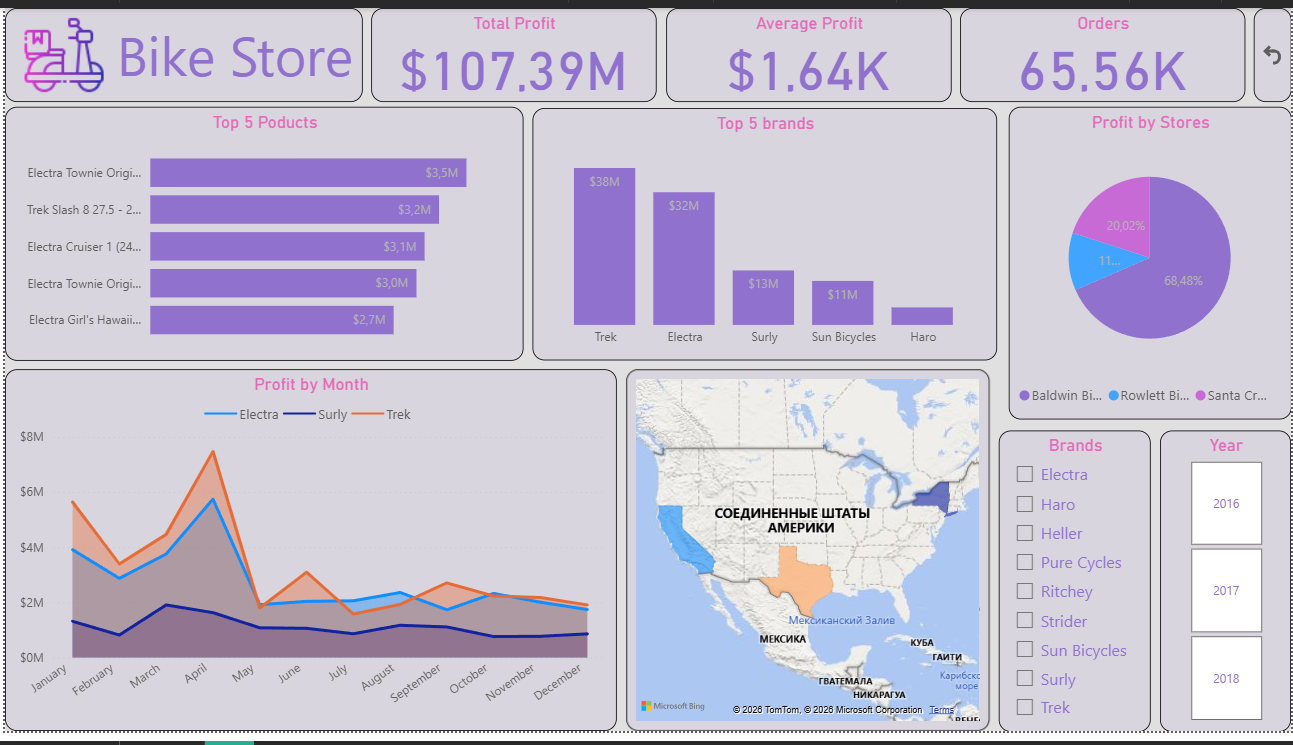

The dashboard page shown, as its layout file describes it:
{"tool":"powerbi","page":{"name":"Sales","canvas":[1280,720],"ordinal":0},"visuals":[{"type":"lineChart","title":"Profit by Month","fields":{"Category":["orders_new.order_date.Variation.Date Hierarchy.Month"],"Y":["Sum(orders_new.profit)"],"Series":["orders_new.brands.brand_name"]},"box":[0,360,608.6,360],"z":0},{"type":"slicer","title":"Year","fields":{"Values":["orders_new.order_date.Variation.Date Hierarchy.Year"]},"box":[1150,420,130,300],"z":1000},{"type":"clusteredBarChart","title":"Top 5 Poducts","fields":{"Y":["Sum(orders_new.profit)"],"Category":["orders_new.products.product_name"]},"box":[0,98.8,516.2,252.5],"z":2000},{"type":"clusteredColumnChart","title":"Top 5 brands","fields":{"Y":["Sum(orders_new.profit)"],"Category":["orders_new.brands.brand_name"]},"box":[525,100,462.5,251.2],"z":3000},{"type":"card","title":"Total Profit","fields":{"Values":["Sum(orders_new.profit)"]},"box":[365,0,283.8,93.8],"z":4000},{"type":"card","title":"Average Profit","fields":{"Values":["Avg(orders_new.profit)"]},"box":[657.5,0,283.8,93.8],"z":5000},{"type":"card","title":"Orders","fields":{"Values":["CountNonNull(orders_new.order_id)"]},"box":[950,0,283.8,93.8],"z":6000},{"type":"filledMap","fields":{"Series":["orders_new.order_id"],"Category":["orders_new.customers.state","orders_new.customers.street","orders_new.customers.zip_code","orders_new.customers.city"]},"box":[618.6,360,361.4,360],"z":7000},{"type":"slicer","title":"Brands","fields":{"Values":["orders_new.brands.brand_name"]},"box":[988.6,420,151.4,300],"z":8000},{"type":"textbox","box":[0,0,356.2,93.8],"z":9000},{"type":"image","box":[0,0,117.5,93.8],"z":10000},{"type":"pieChart","title":"Profit by Stores","fields":{"Category":["orders_new.stores.store_name"],"Y":["Sum(orders_new.profit)"]},"box":[998.6,98.6,281.4,311.4],"z":12000},{"type":"actionButton","box":[1242.5,0,37.5,93.8],"z":12001}]}

Visuals, with their boxes in screenshot pixels (x1, y1, x2, y2), scaled from the page's 1280x720 canvas onto the 1293x745 screenshot:
"Profit by Month" lineChart: 0,373,615,744
"Year" slicer: 1162,435,1292,744
"Top 5 Poducts" clusteredBarChart: 0,102,521,363
"Top 5 brands" clusteredColumnChart: 530,103,998,363
"Total Profit" card: 369,0,655,97
"Average Profit" card: 664,0,951,97
"Orders" card: 960,0,1246,97
filledMap - orders_new.order_id x orders_new.customers.state: 625,373,990,744
"Brands" slicer: 999,435,1152,744
textbox: 0,0,360,97
image: 0,0,119,97
"Profit by Stores" pieChart: 1009,102,1292,424
actionButton: 1255,0,1292,97
